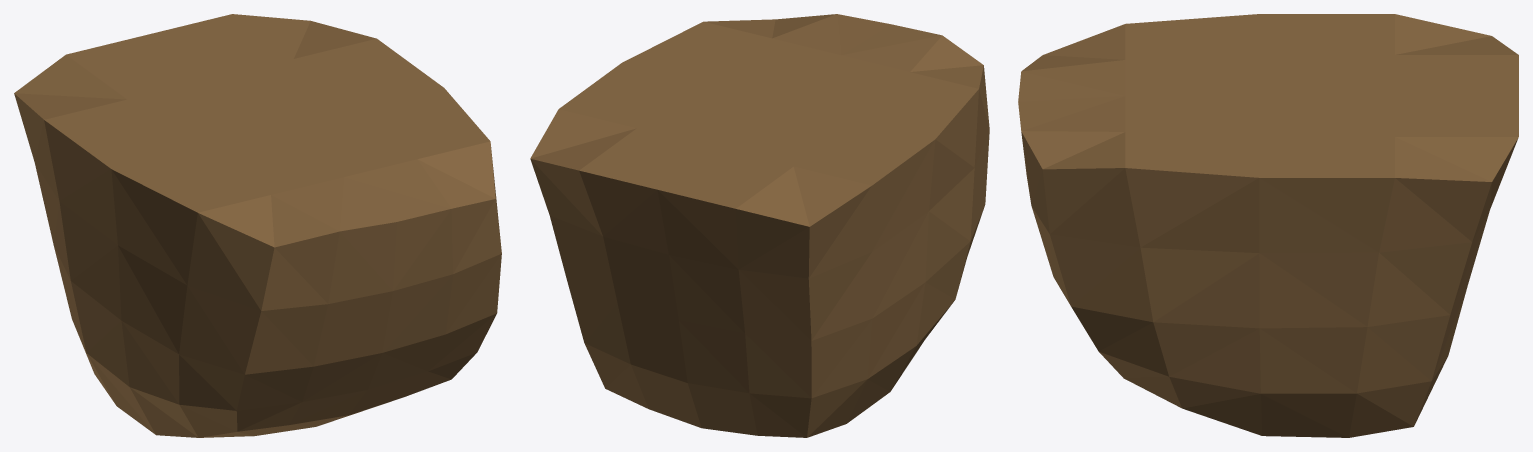
Rendered from LeftFingerJoint43y_joint_visu.dae.
The picture shows the model from 3 angles, left to right: view 1: azimuth 30°, elevation 25°; view 2: azimuth 150°, elevation 25°; view 3: azimuth 270°, elevation 25°; orthographic projection. The views are drawn at different scales.
Visible parts, largest first — view 1: node; view 2: node; view 3: node.
Boxes of the visible parts, x1,y1,x2,y2 form: node: (14,14,501,437); node: (530,14,989,437); node: (1018,14,1518,437).
Size of the model in its own units: 0.00972 by 0.00847 by 0.0126.
